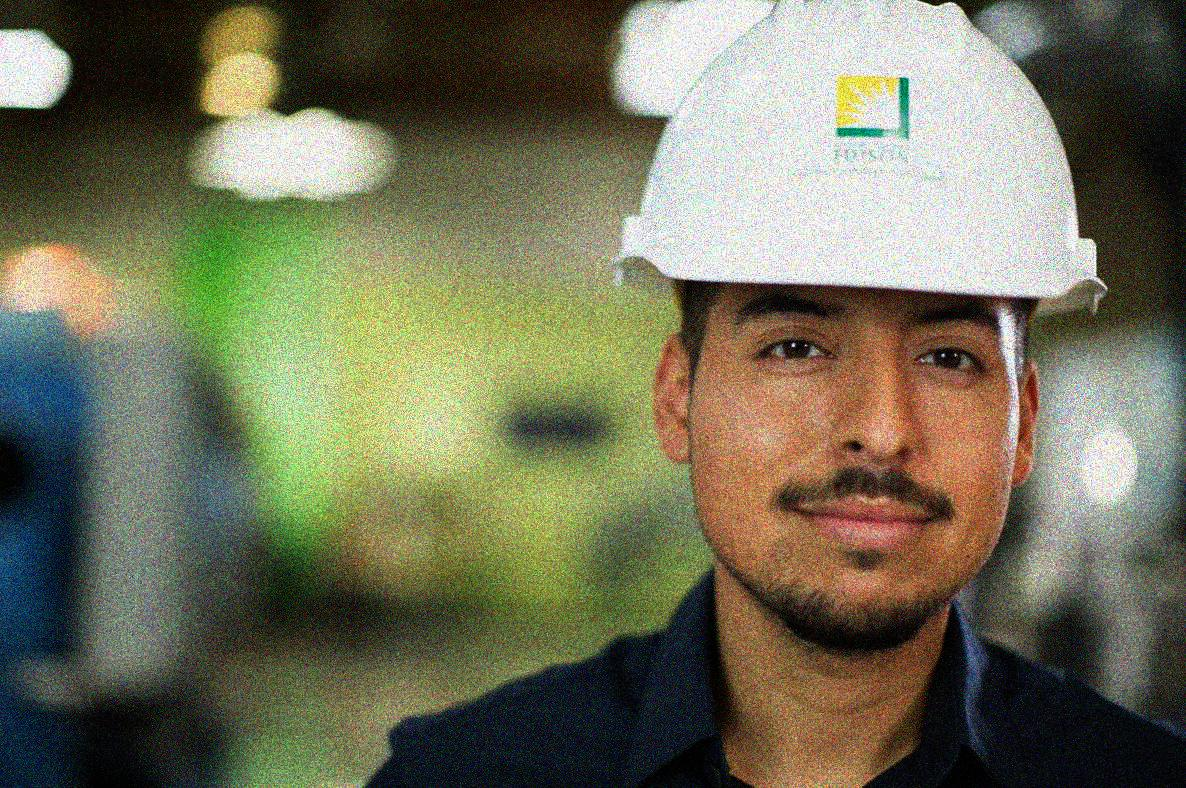helmet: (613, 2, 1110, 650)
